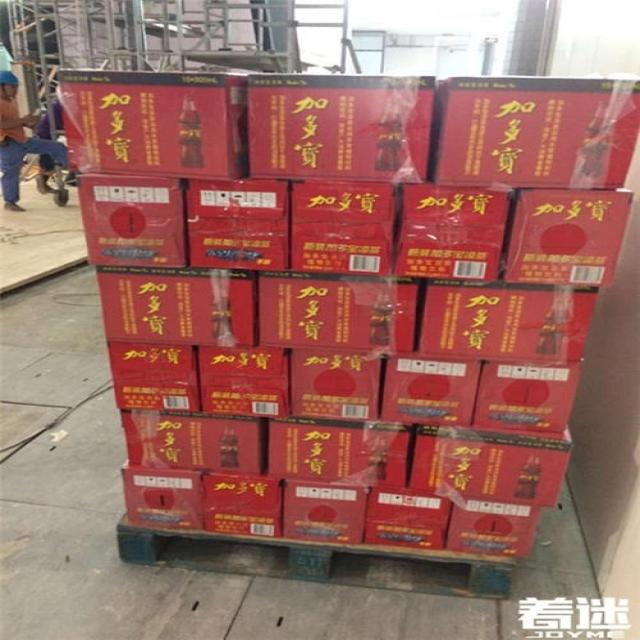box: (430, 76, 640, 187), (56, 68, 248, 182), (247, 75, 434, 184), (416, 278, 600, 360), (256, 271, 420, 353), (407, 426, 573, 506), (503, 187, 635, 287), (96, 266, 257, 347), (393, 184, 512, 282), (77, 173, 186, 267), (268, 417, 413, 487), (292, 180, 398, 275), (188, 178, 289, 271), (118, 412, 264, 474), (472, 359, 581, 433), (379, 355, 484, 428), (198, 344, 291, 418), (105, 343, 201, 413), (291, 348, 379, 420), (364, 485, 456, 551), (444, 496, 540, 557), (285, 477, 369, 543), (200, 472, 283, 538), (124, 466, 204, 528)
